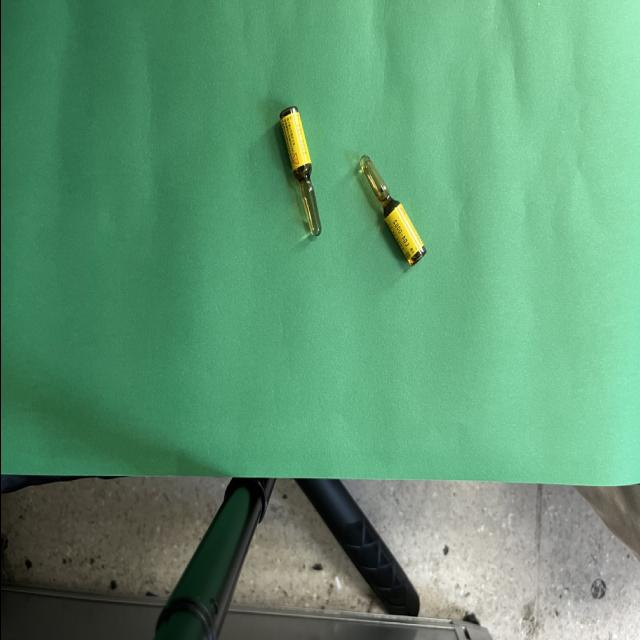Ampoules: (359, 157, 426, 267), (279, 107, 320, 237)
